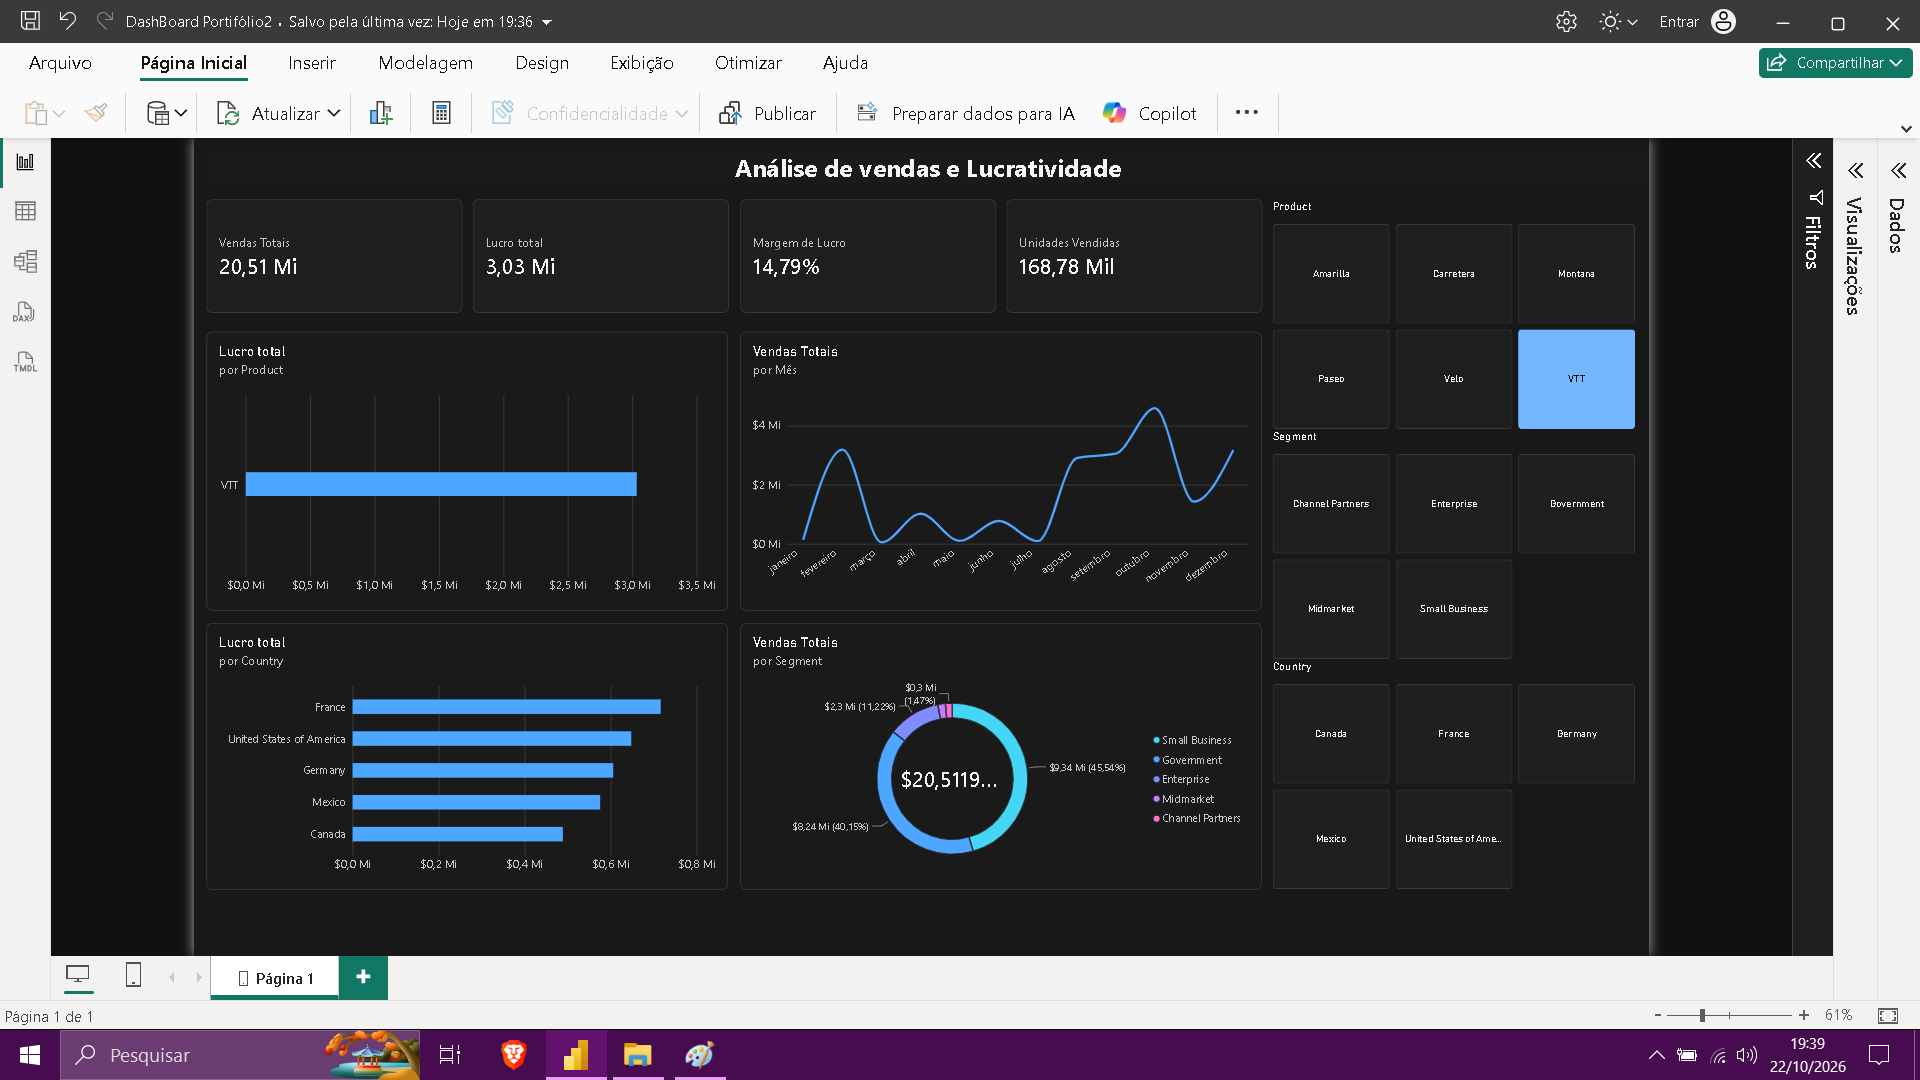

What the dashboard file says about the page in this screenshot:
{"tool":"powerbi","page":{"name":"Página 1","canvas":[1920,1080],"ordinal":0},"visuals":[{"type":"textbox","box":[16,16,1904,48],"z":0},{"type":"cardVisual","fields":{"Data":["financials.Vendas Totais"]},"box":[16,80,338.5,150.3],"z":1000},{"type":"cardVisual","fields":{"Data":["financials.Lucro total"]},"box":[368,80,338.5,150.3],"z":2000},{"type":"cardVisual","fields":{"Data":["financials.Margem de Lucro"]},"box":[720,80,338.5,150.3],"z":3000},{"type":"cardVisual","fields":{"Data":["financials.Unidades Vendidas"]},"box":[1072,80,338.5,150.3],"z":4000},{"type":"lineChart","fields":{"Category":["financials.Date.Variação.Hierarquia de datas.Ano","financials.Date.Variação.Hierarquia de datas.Trimestre","financials.Date.Variação.Hierarquia de datas.Mês","financials.Date.Variação.Hierarquia de datas.Dia"],"Y":["financials.Vendas Totais"]},"box":[720,256,688,368],"z":5000},{"type":"clusteredBarChart","fields":{"Category":["financials.Product"],"Y":["financials.Lucro total"]},"box":[16,256,688,368],"z":6000},{"type":"donutChart","fields":{"Category":["financials.Segment"],"Y":["financials.Vendas Totais"]},"box":[720,640,688,352],"z":7000},{"type":"clusteredBarChart","fields":{"Category":["financials.Country"],"Y":["financials.Lucro total"]},"box":[16,640,688,352],"z":8000},{"type":"advancedSlicerVisual","fields":{"Values":["financials.Country"]},"box":[1424,688,480,304],"z":9000},{"type":"advancedSlicerVisual","fields":{"Values":["financials.Segment"]},"box":[1424,384,480,304],"z":10000},{"type":"advancedSlicerVisual","fields":{"Values":["financials.Product"]},"box":[1424,80,480,304],"z":11000}]}

Visuals, with their boxes on the page's 1920x1080 design canvas (x1, y1, x2, y2). These are canvas units, not pixel positions in the 1920x1080 screenshot, which may show the page scaled, cropped or inside an application window:
textbox: x1=16, y1=16, x2=1920, y2=64
cardVisual - financials.Vendas Totais: x1=16, y1=80, x2=354, y2=230
cardVisual - financials.Lucro total: x1=368, y1=80, x2=706, y2=230
cardVisual - financials.Margem de Lucro: x1=720, y1=80, x2=1058, y2=230
cardVisual - financials.Unidades Vendidas: x1=1072, y1=80, x2=1410, y2=230
lineChart - financials.Date.Variação.Hierarquia de datas.Ano x financials.Date.Variação.Hierarquia de datas.Trimestre: x1=720, y1=256, x2=1408, y2=624
clusteredBarChart - financials.Product x financials.Lucro total: x1=16, y1=256, x2=704, y2=624
donutChart - financials.Segment x financials.Vendas Totais: x1=720, y1=640, x2=1408, y2=992
clusteredBarChart - financials.Country x financials.Lucro total: x1=16, y1=640, x2=704, y2=992
advancedSlicerVisual - financials.Country: x1=1424, y1=688, x2=1904, y2=992
advancedSlicerVisual - financials.Segment: x1=1424, y1=384, x2=1904, y2=688
advancedSlicerVisual - financials.Product: x1=1424, y1=80, x2=1904, y2=384
